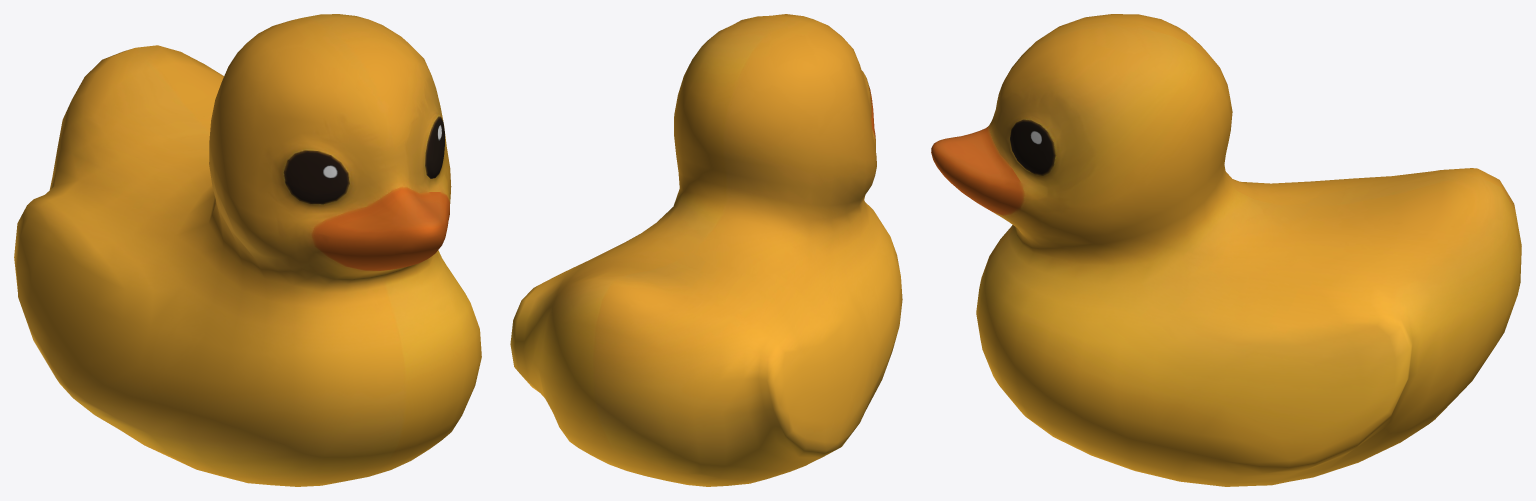
The model's file is rubberducky.fbx.
The picture shows the model from 3 angles, left to right: view 1: azimuth 30°, elevation 25°; view 2: azimuth 150°, elevation 25°; view 3: azimuth 270°, elevation 25°; orthographic projection. The views are drawn at different scales.
Parts seen in each view (by area): view 1: Cube; view 2: Cube; view 3: Cube.
Boxes of the visible parts, x1=… form: Cube: x1=14, y1=14, x2=481, y2=486; Cube: x1=510, y1=14, x2=902, y2=486; Cube: x1=931, y1=14, x2=1521, y2=486.
Size of the model in its own units: 30498 by 40475 by 49596.
